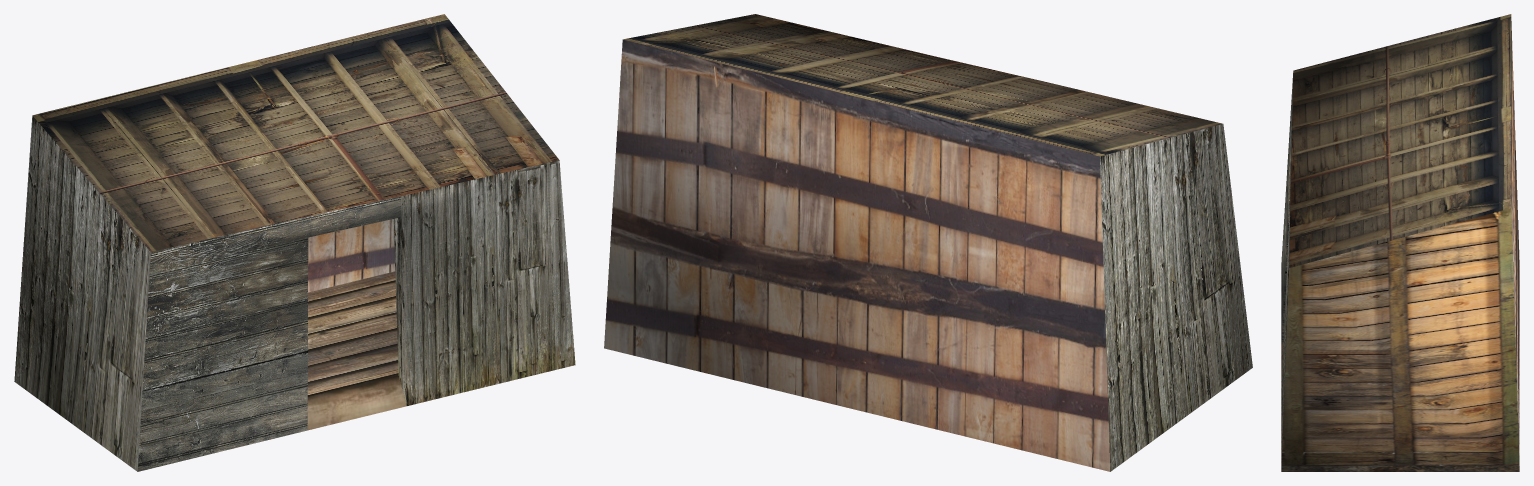
The model's file is Hut.obj.
3 renders of one model, left to right at view 1: azimuth 30°, elevation 25°; view 2: azimuth 150°, elevation 25°; view 3: azimuth 270°, elevation 25°, orthographic. The views are drawn at different scales.
Parts seen in each view (by area): view 1: Skeleton; view 2: Skeleton; view 3: Skeleton.
Boxes of the visible parts, left/top/right/bottom form: Skeleton: left=14, top=14, right=575, bottom=471; Skeleton: left=604, top=14, right=1252, bottom=471; Skeleton: left=1281, top=14, right=1519, bottom=471.
Bounding box in the file's own units: 35.26 × 20.54 × 17.18.
Materials: 12 (12 with a texture image).
